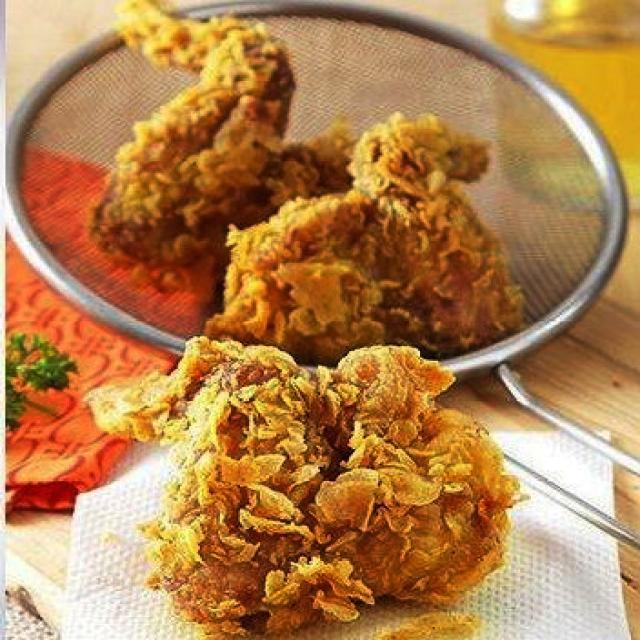fried_chicken: (84, 343, 524, 640), (87, 3, 402, 256), (220, 116, 522, 338)
